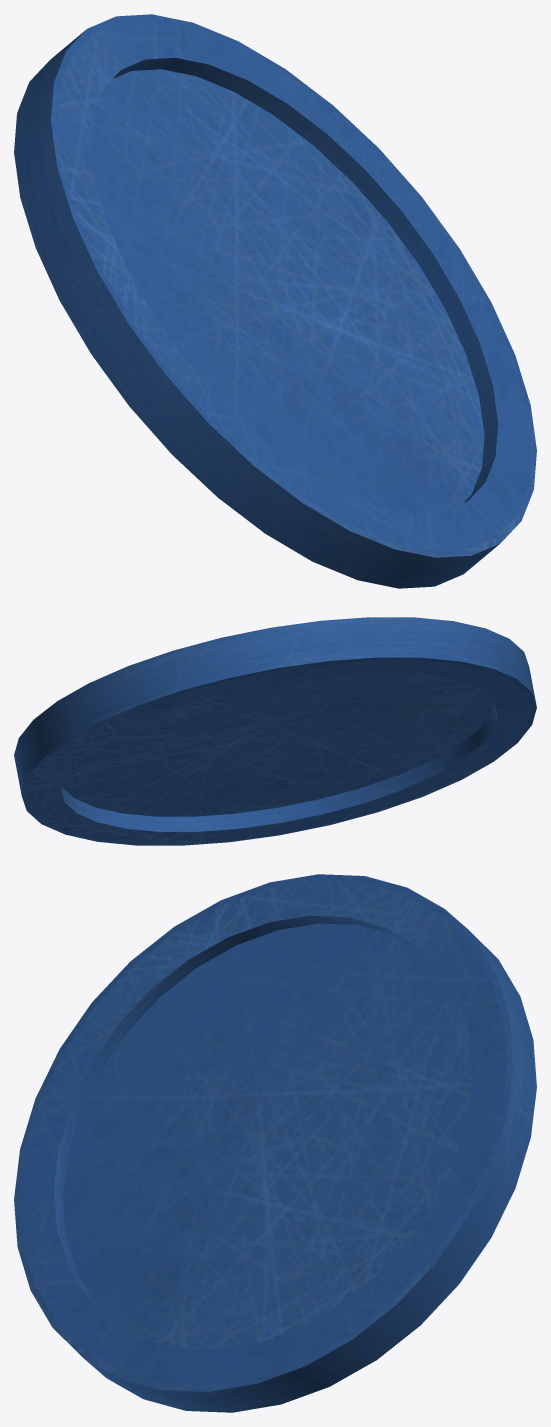
The model's file is airhockey_fintex.dae.
The picture shows the model from 3 angles, top to bottom: view 1: azimuth 30°, elevation 25°; view 2: azimuth 150°, elevation 25°; view 3: azimuth 270°, elevation 25°; orthographic projection. The views are drawn at different scales.
Visible parts, largest first — view 1: Cylinder; view 2: Cylinder; view 3: Cylinder.
Boxes of the visible parts, x1=… form: Cylinder: x1=14, y1=14, x2=536, y2=588; Cylinder: x1=14, y1=617, x2=536, y2=845; Cylinder: x1=14, y1=874, x2=536, y2=1412.
Size of the model in its own units: 1.24 by 1.24 by 1.04.
